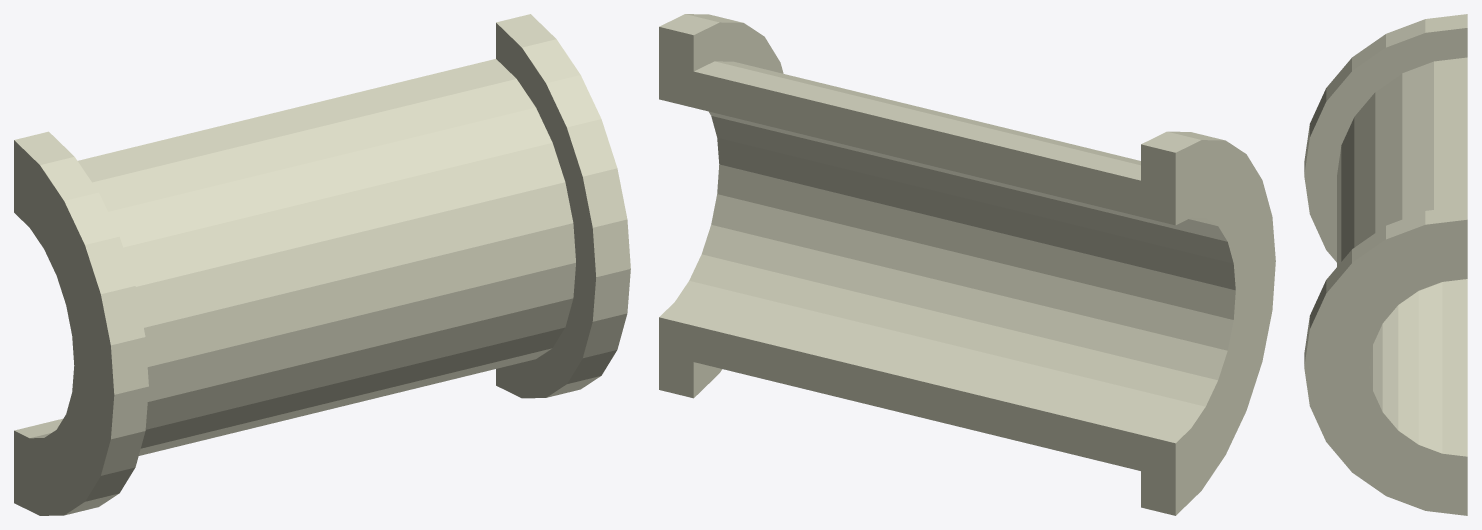
Rendered from section_126.obj.
The picture shows the model from 3 angles, left to right: view 1: azimuth 30°, elevation 25°; view 2: azimuth 150°, elevation 25°; view 3: azimuth 270°, elevation 25°; orthographic projection. The views are drawn at different scales.
Size of the model in its own units: 14.89 by 10 by 5.
